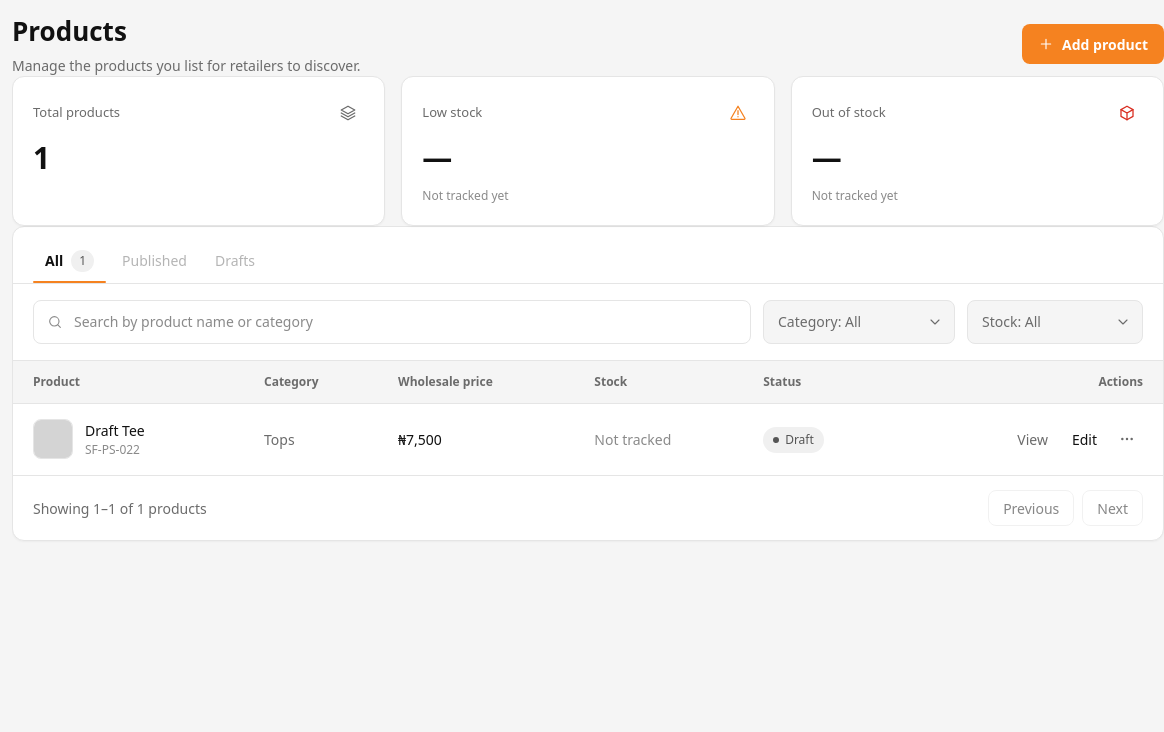
Test: products list (PR #18 strict live contract) › surfaces backend publish guard errors (DEFAULT_WAREHOUSE_REQUIRED) in the toast
Click the button named "More actions for Draft Tee" at (1127, 439), box [1111,423,1143,455]
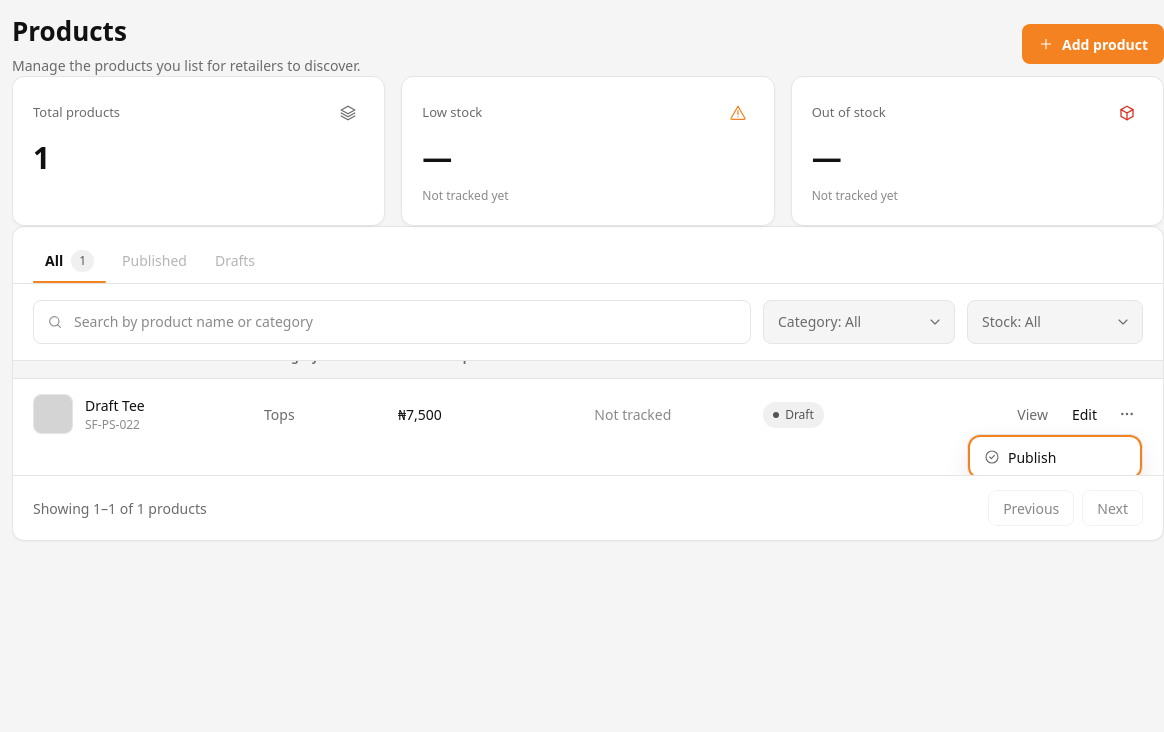
Click the menu item "Publish" at (1055, 457), box [972,439,1138,475]
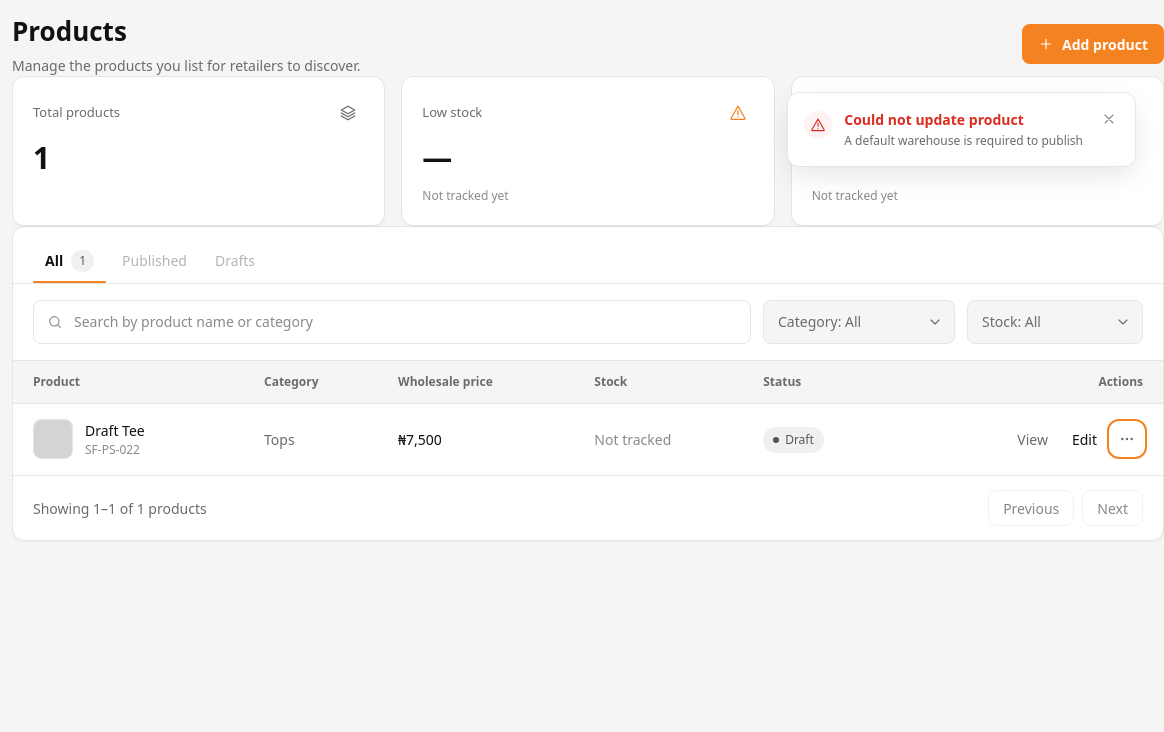
Now the text "A default warehouse is required to publish" is shown, box [844,132,1083,150]
